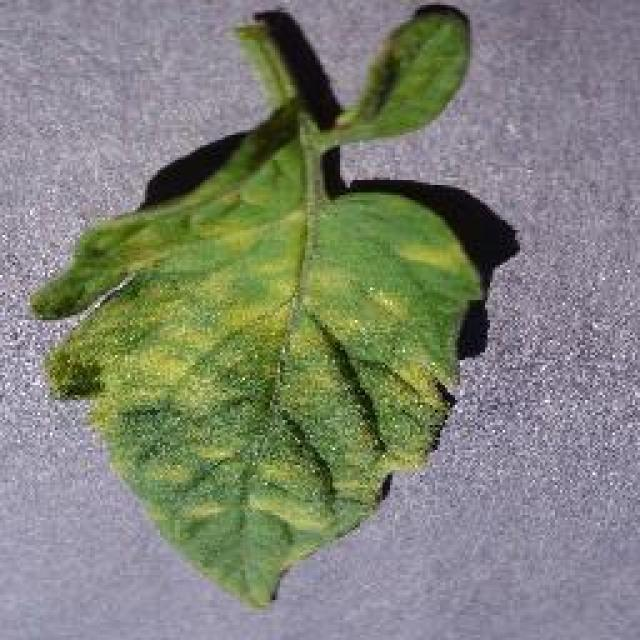leaf mold: (33, 4, 490, 611)
